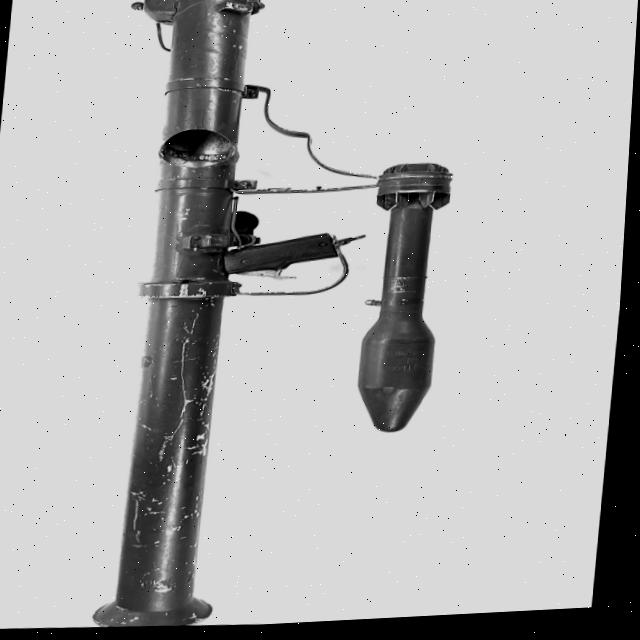grenade: (346, 161, 467, 449)
rocket: (80, 0, 269, 633)
